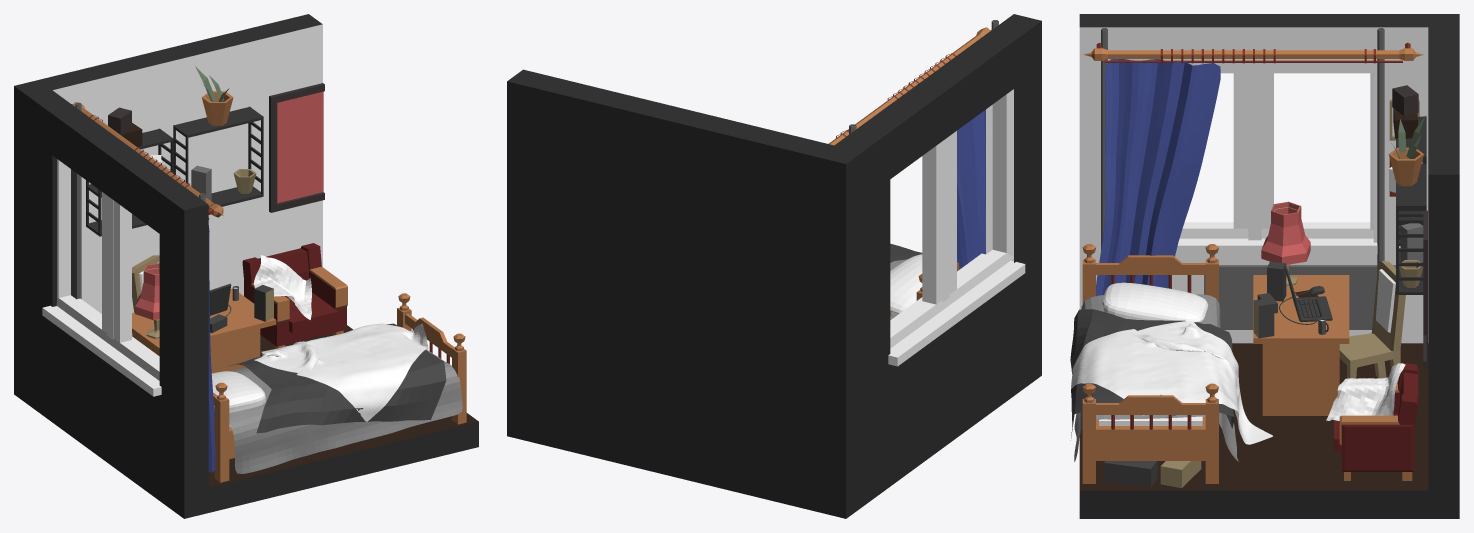
Rendered from isometric_room_fin.glb.
3 renders of one model, left to right at view 1: azimuth 30°, elevation 25°; view 2: azimuth 150°, elevation 25°; view 3: azimuth 270°, elevation 25°, orthographic. The views are drawn at different scales.
Visible parts, largest first — view 1: Cube_2, Cube_0, Plane.007_0, Cube.023_0, Cube.011_0, Cube.007_0, Cube.037_1, Cube.021_0, Cube.001_0, Cube_1, Cube.010_0, Cube.037_0 (+16 smaller); view 2: Cube_2, Cube.011_0, Cylinder.006_0, Cube.010_0, Cube.012_0, Cube.008_0, Cube_0, Cylinder.004_0; view 3: Cube_2, Cube_0, Cylinder.006_0, Cube_1, Plane.007_0, Cube.001_0, Cube.011_0, Cube.021_0, Cube.016_0, Cube.003_0, Cube.009_0, Cube.023_0 (+30 smaller).
Part boxes in pixels (x1,y1,x2,y2): Cube_2: (14,14,478,518); Cube_0: (53,24,322,335); Plane.007_0: (254,323,428,421); Cube.023_0: (229,323,446,433); Cube.011_0: (56,159,159,380); Cube.007_0: (229,349,462,473); Cube.037_1: (277,91,323,203); Cube.021_0: (242,243,346,346); Cube.001_0: (132,288,276,373); Cube_1: (208,325,478,487); Cube.010_0: (42,298,161,396); Cube.037_0: (269,83,324,212); Cube_2: (507,14,1041,518); Cube.011_0: (890,89,1013,348); Cylinder.006_0: (957,109,985,271); Cube.010_0: (888,253,1025,366); Cube.012_0: (890,254,922,313); Cube.008_0: (942,136,949,302); Cube_0: (986,105,1013,261); Cylinder.004_0: (828,27,991,145); Cube_2: (1079,14,1459,518); Cube_0: (1079,27,1428,343); Cylinder.006_0: (1096,59,1220,295); Cube_1: (1079,343,1428,490); Plane.007_0: (1071,321,1272,444); Cube.001_0: (1253,275,1349,415); Cube.011_0: (1179,73,1373,238); Cube.021_0: (1334,362,1418,471); Cube.016_0: (1204,265,1395,329); Cube.003_0: (1096,417,1205,460); Cube.009_0: (1096,255,1205,414); Cube.023_0: (1070,309,1234,440).
Size of the model in its own units: 2.24 by 2.18 by 2.23.
